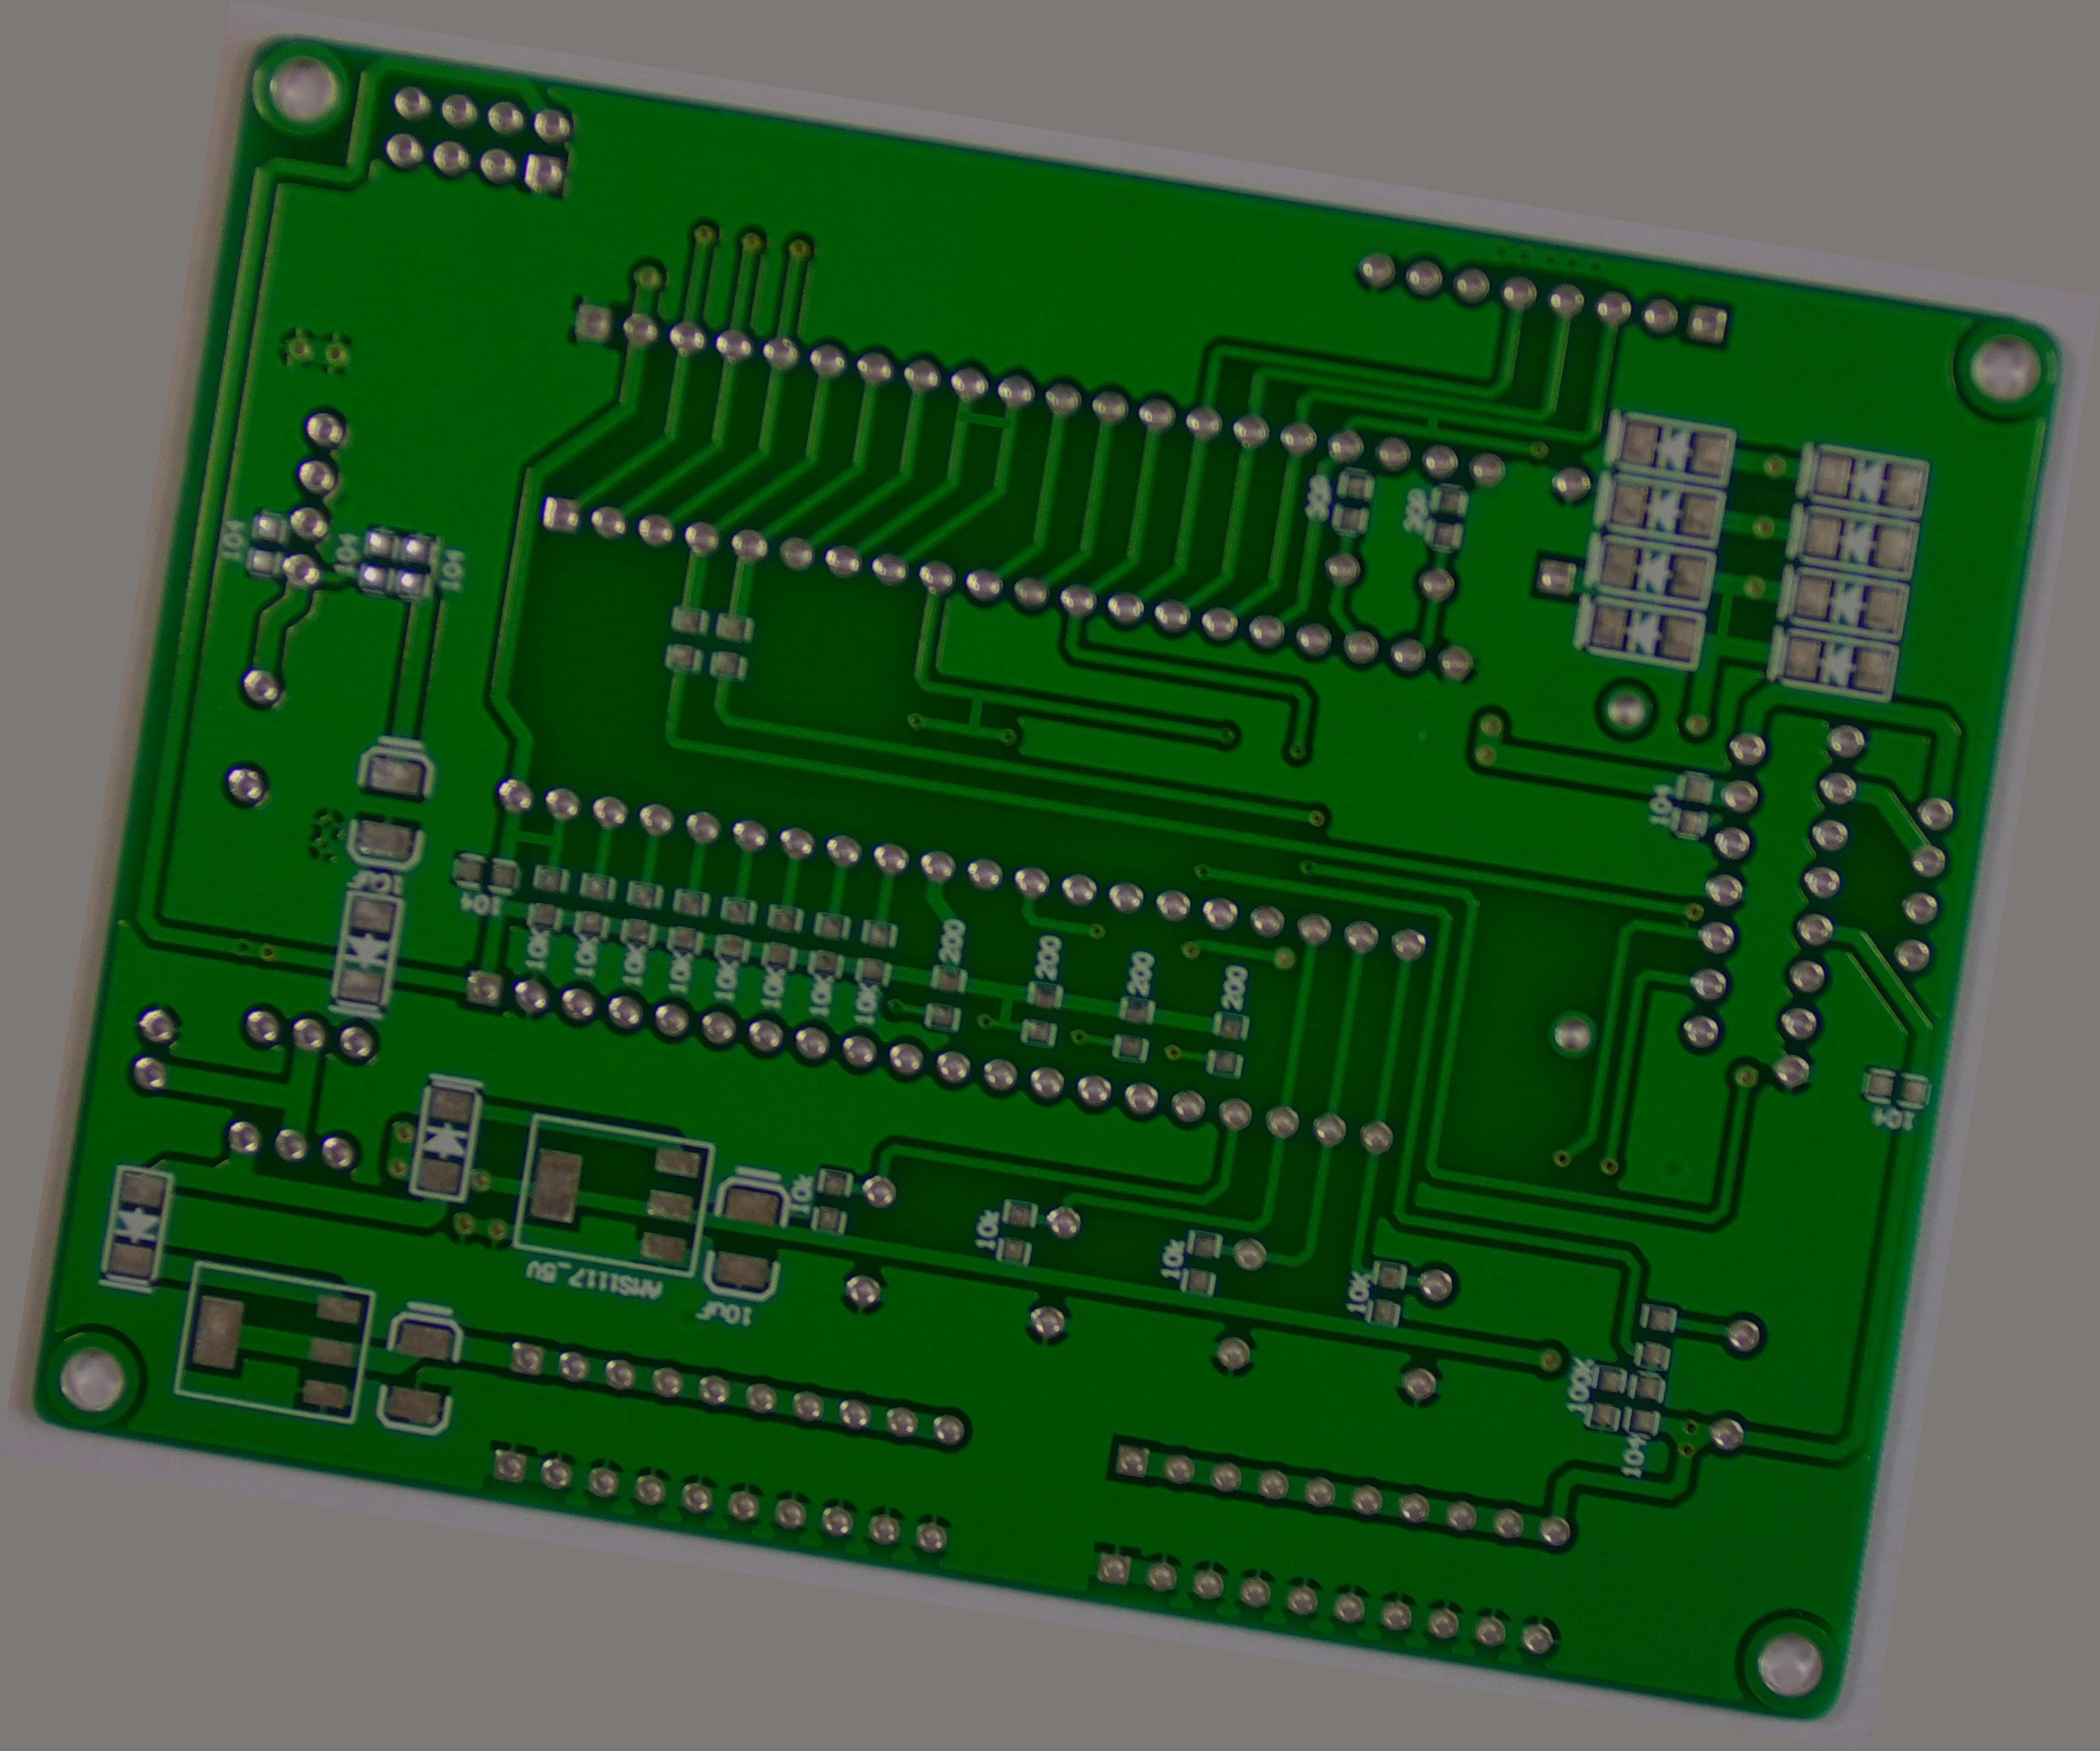short: (947, 392, 1027, 443), (951, 680, 1001, 743), (495, 816, 570, 856), (977, 978, 1029, 1034), (1411, 406, 1446, 436)
